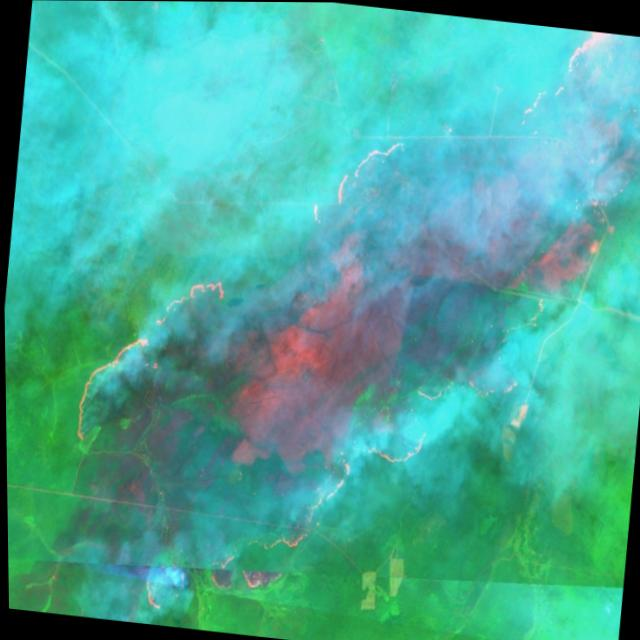fire: (44, 0, 640, 640)
